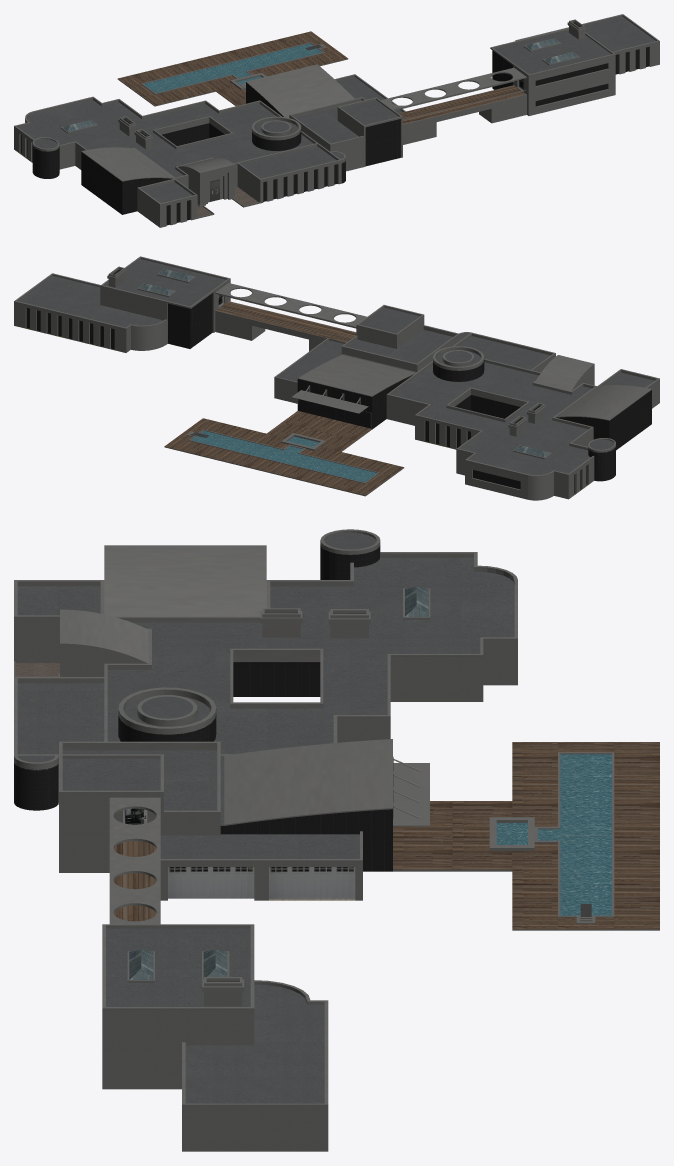
The model's file is mansion_3.glb.
3 views of the same model, one above another, from view 1: azimuth 30°, elevation 25°; view 2: azimuth 150°, elevation 25°; view 3: azimuth 270°, elevation 25° (orthographic). The views are drawn at different scales.
Parts seen in each view (by area): view 1: mansion3; view 2: mansion3; view 3: mansion3.
Part boxes in pixels (x1=…): mansion3: x1=14, y1=14, x2=659, y2=227; mansion3: x1=14, y1=256, x2=659, y2=500; mansion3: x1=14, y1=529, x2=659, y2=1151.
Size of the model in its own units: 7941 by 669 by 3846.
1 material, 1 textured.
